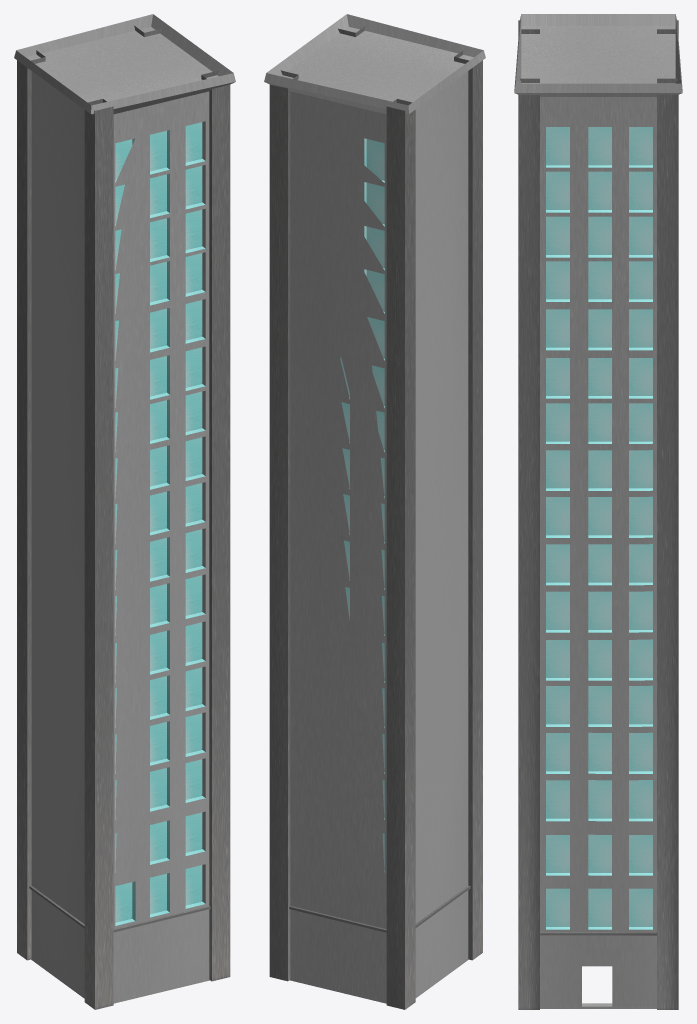
Rendered from BUILDING LIGHT.fbx.
3 views of the same model, side by side, from view 1: azimuth 30°, elevation 25°; view 2: azimuth 150°, elevation 25°; view 3: azimuth 270°, elevation 25° (orthographic). The views are drawn at different scales.
Visible parts, largest first — view 1: polySurface6; view 2: polySurface6; view 3: polySurface6.
Boxes of the visible parts, x1=… form: polySurface6: x1=14, y1=14, x2=235, y2=1009; polySurface6: x1=264, y1=14, x2=485, y2=1009; polySurface6: x1=514, y1=14, x2=682, y2=1009.
Size of the model in its own units: 16.84 by 102 by 16.84.
3 materials, 3 textured.
